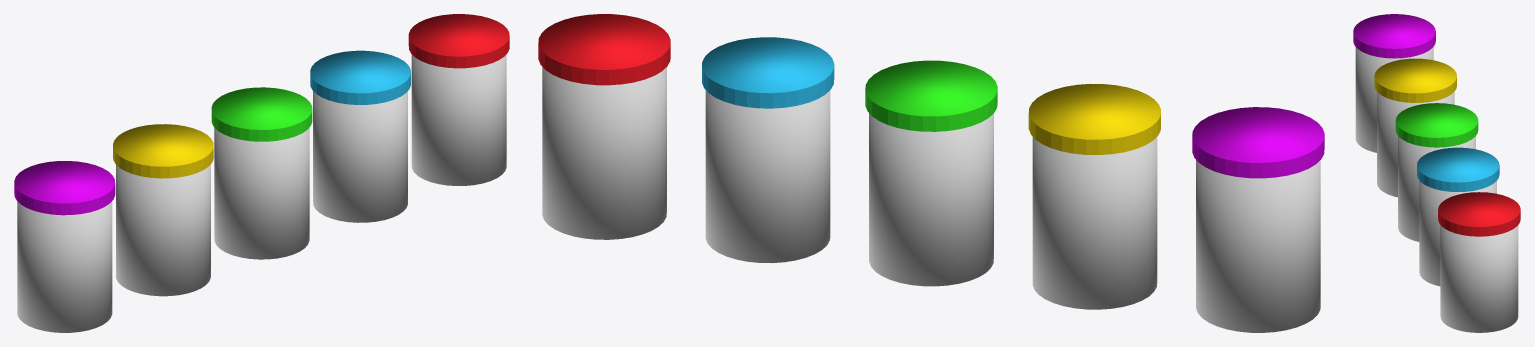
The model's file is Kavanozlar.fbx.
The picture shows the model from 3 angles, left to right: view 1: azimuth 30°, elevation 25°; view 2: azimuth 150°, elevation 25°; view 3: azimuth 270°, elevation 25°; orthographic projection. The views are drawn at different scales.
Visible parts, largest first — view 1: Cylinder; view 2: Cylinder; view 3: Cylinder.
Part boxes in pixels (<box>): Cylinder: <box>14,14,509,332</box>; Cylinder: <box>538,14,1324,332</box>; Cylinder: <box>1353,14,1520,332</box>.
Bounding box in the file's own units: 392 × 91.64 × 130.
